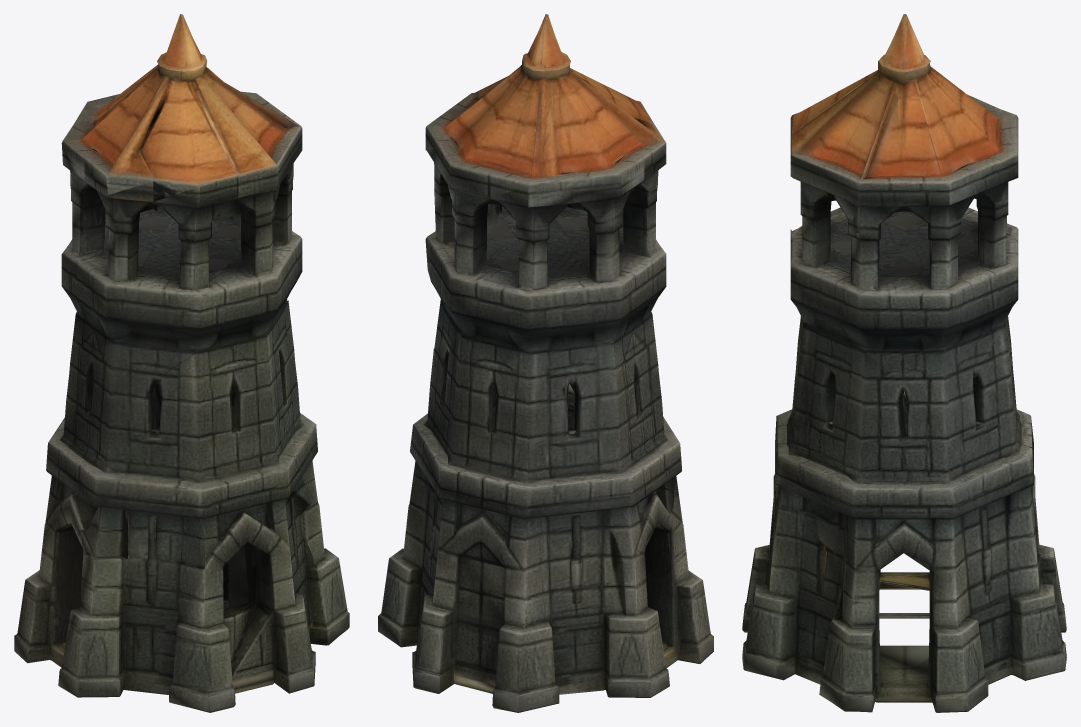
The model's file is Emberwatch_Tower-web.glb.
3 views of the same model, side by side, from view 1: azimuth 30°, elevation 25°; view 2: azimuth 150°, elevation 25°; view 3: azimuth 270°, elevation 25° (orthographic).
Bounding box in the file's own units: 0.9322 × 2 × 0.9322.
1 material, 1 textured.
